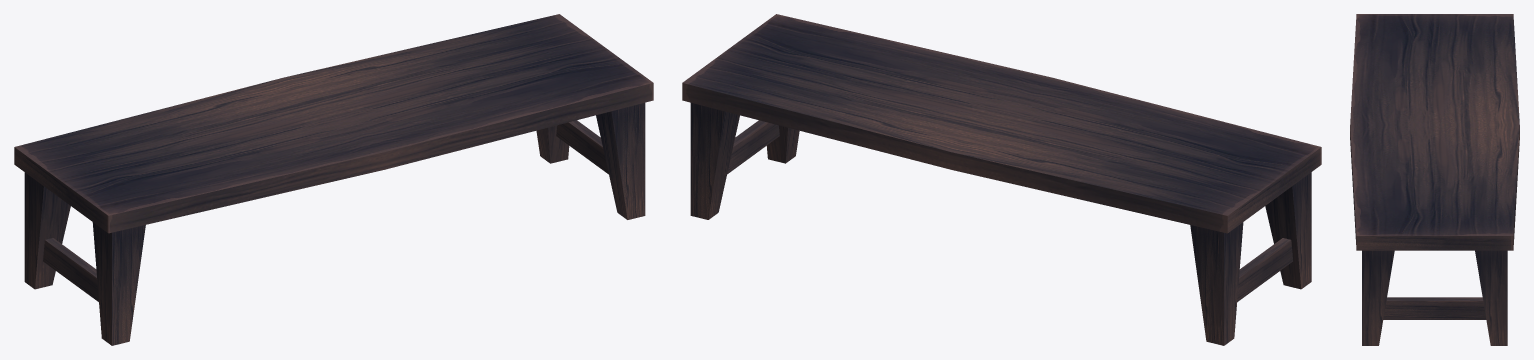
Rendered from Table_A_1x3.fbx.
3 renders of one model, left to right at view 1: azimuth 30°, elevation 25°; view 2: azimuth 150°, elevation 25°; view 3: azimuth 270°, elevation 25°, orthographic. The views are drawn at different scales.
Visible parts, largest first — view 1: Table_A_1x3; view 2: Table_A_1x3; view 3: Table_A_1x3.
Boxes of the visible parts, x1,y1,x2,y2 form: Table_A_1x3: [14, 14, 653, 345]; Table_A_1x3: [682, 14, 1321, 345]; Table_A_1x3: [1350, 14, 1519, 345].
Size of the model in its own units: 0.9399 by 0.2211 by 0.3036.
